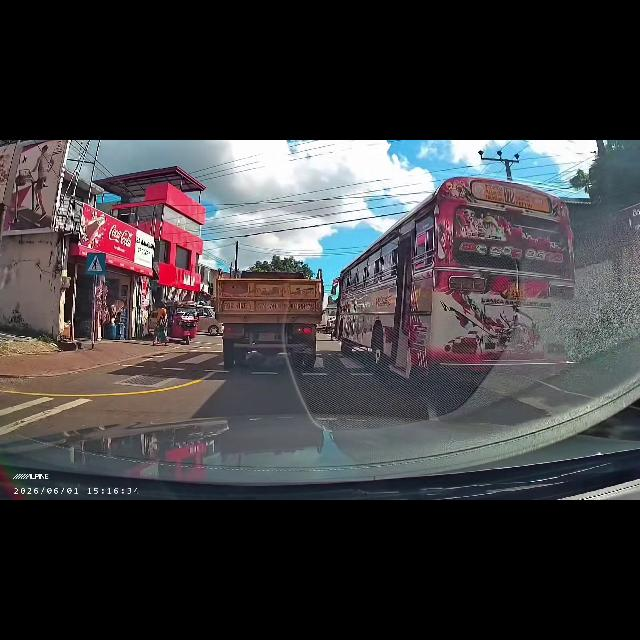bus: (387, 226, 549, 372)
crosswalk: (160, 350, 222, 376)
number_plate: (506, 276, 530, 302)
truck: (214, 276, 312, 370)
